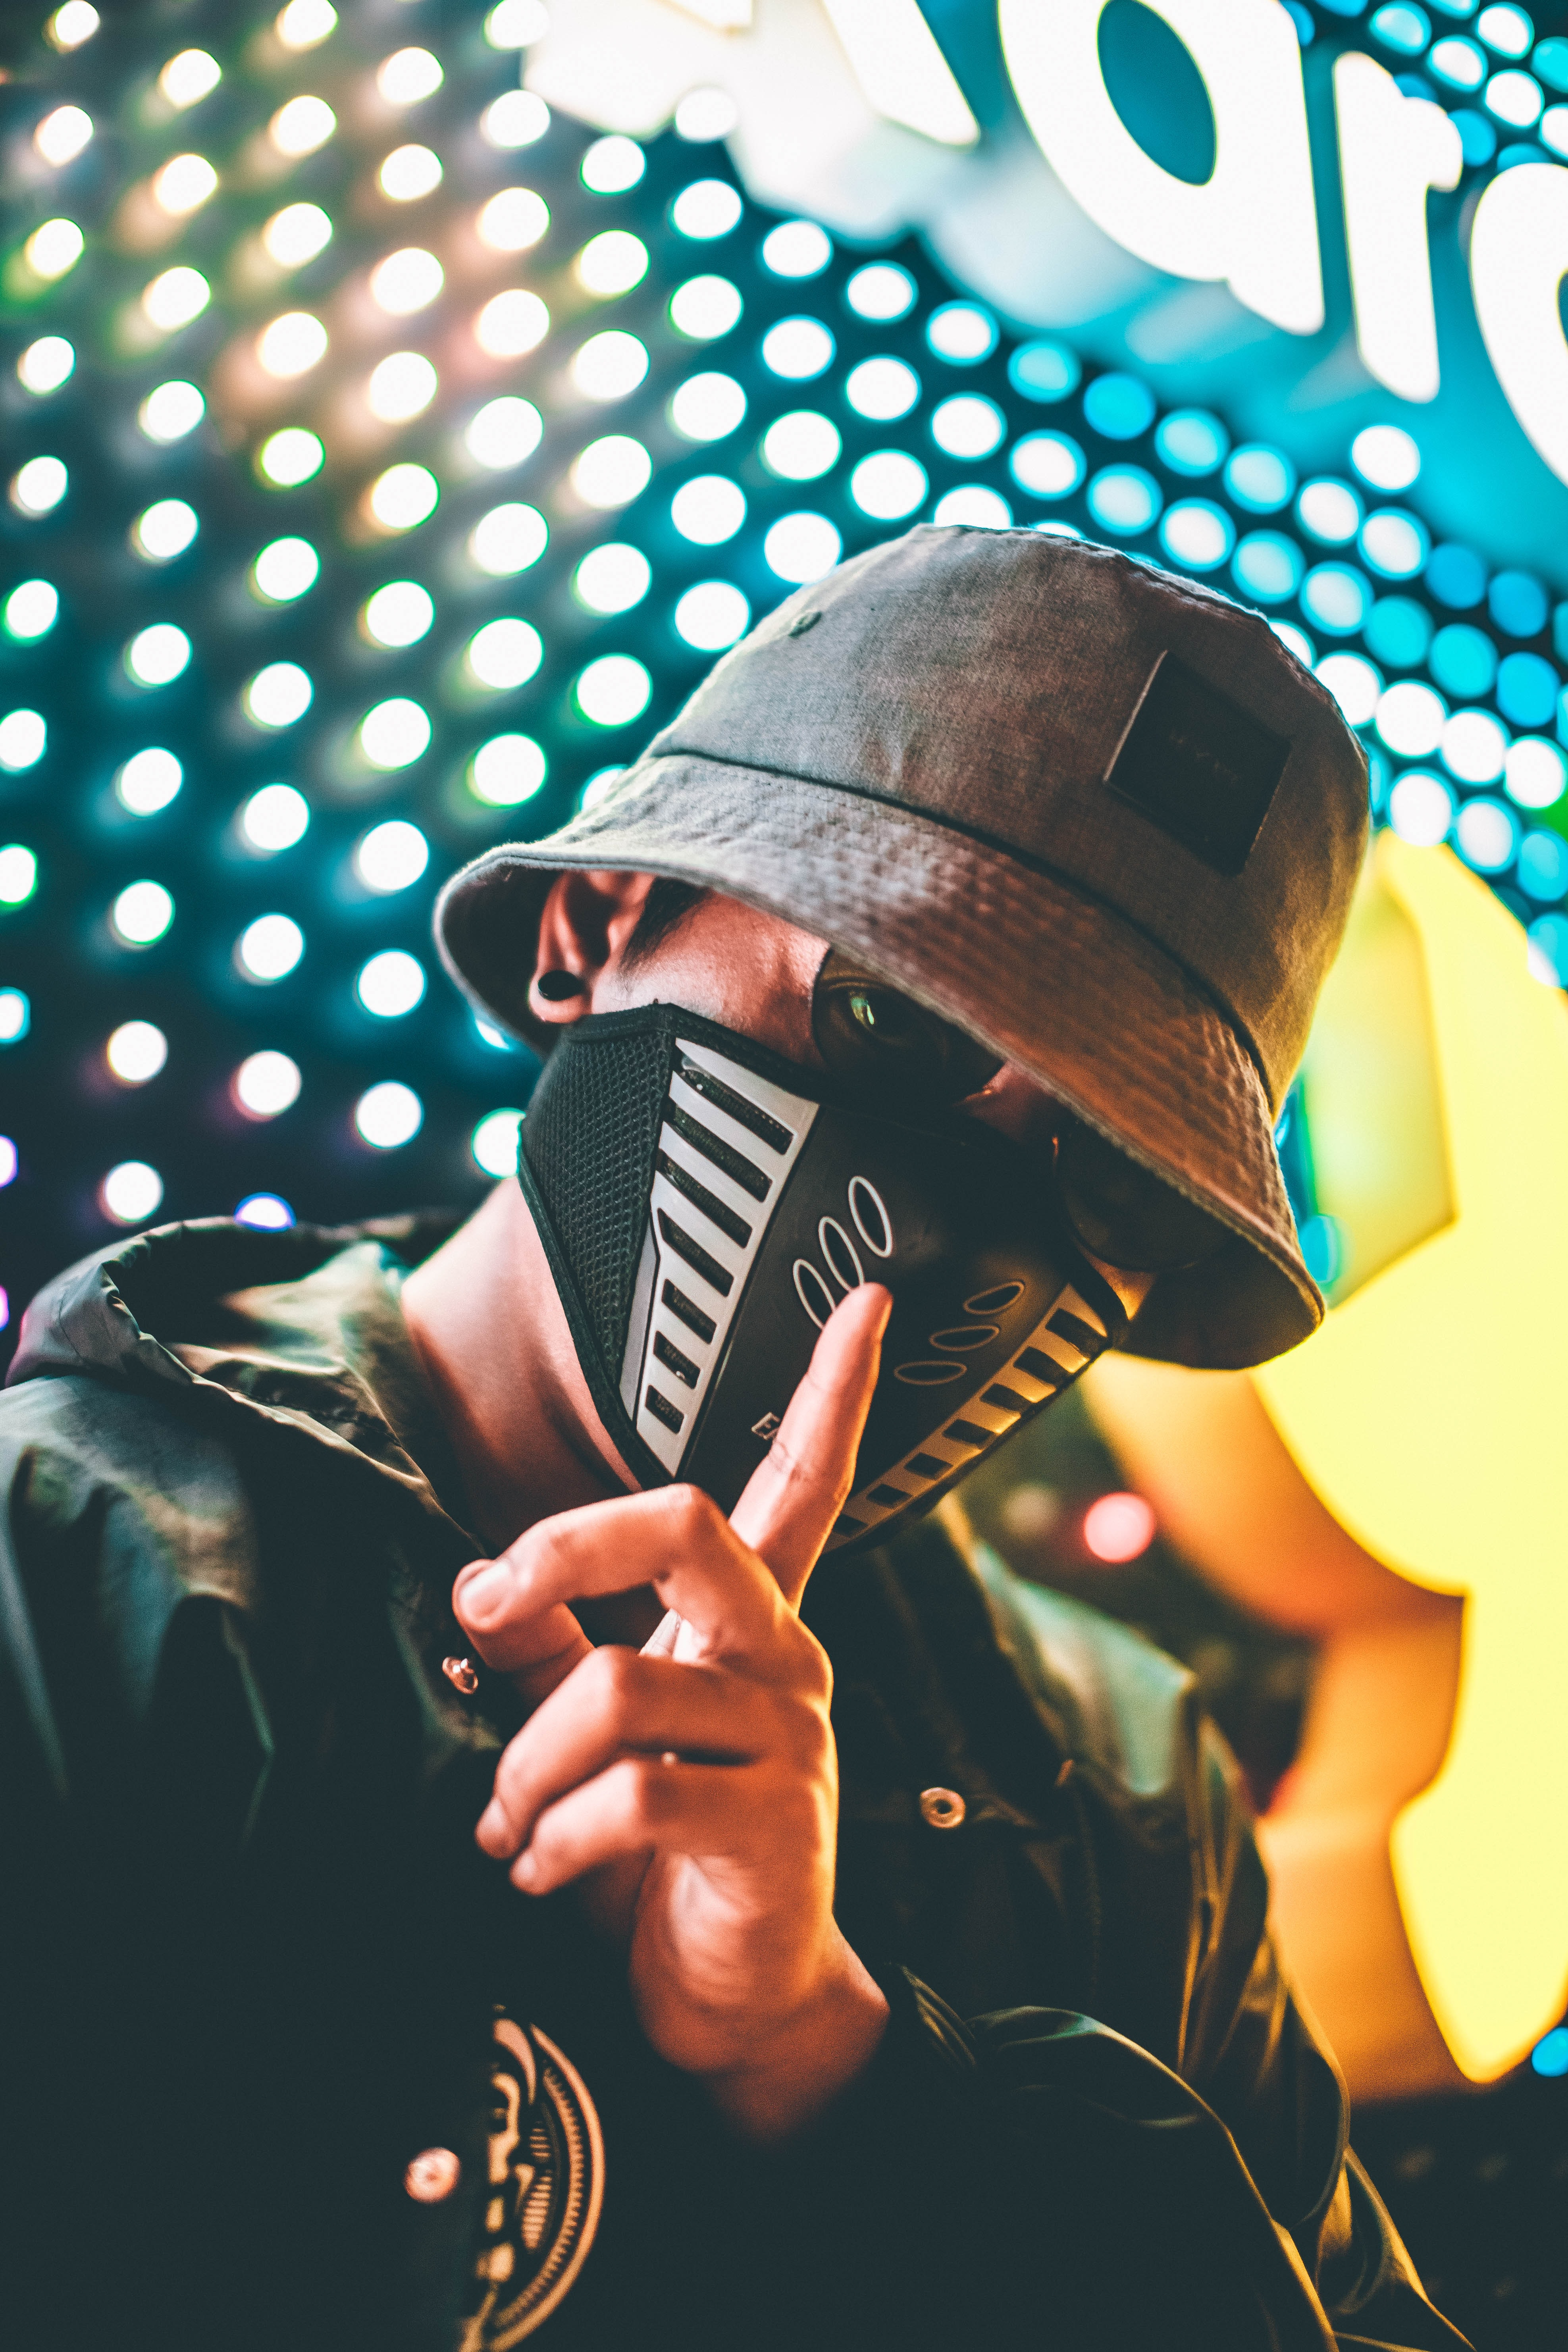mask: (490, 994, 1196, 1566)
person: (0, 476, 1506, 2352)
